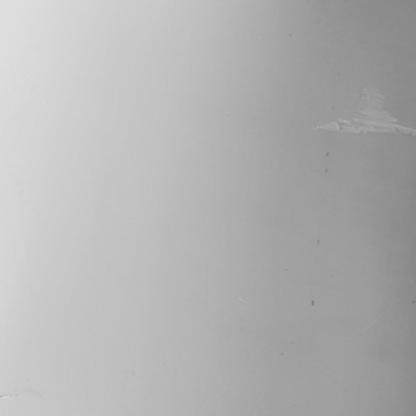sunshang: (313, 90, 416, 131)
